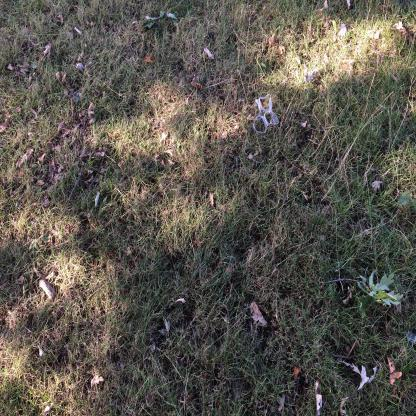plastik: (254, 95, 281, 135)
